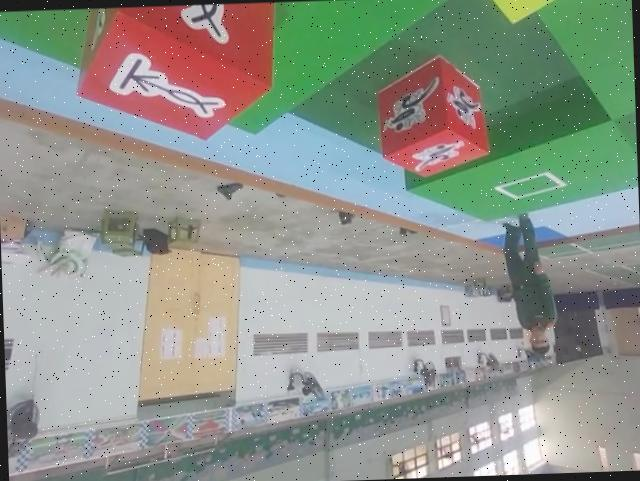R1: (375, 47, 492, 185)
R2 Real: (73, 2, 286, 152)
